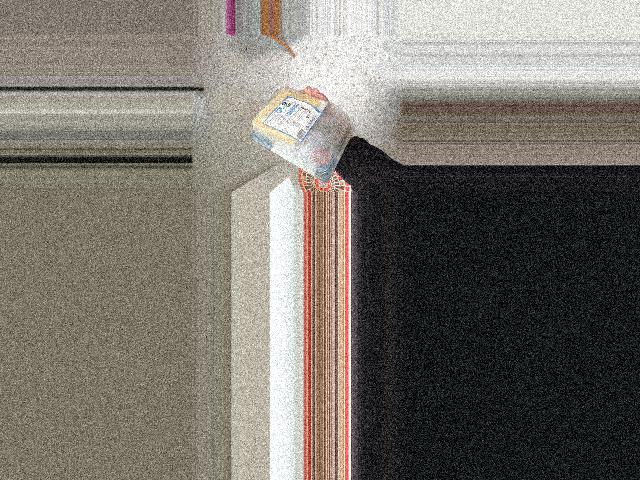cheese: (245, 79, 358, 188)
